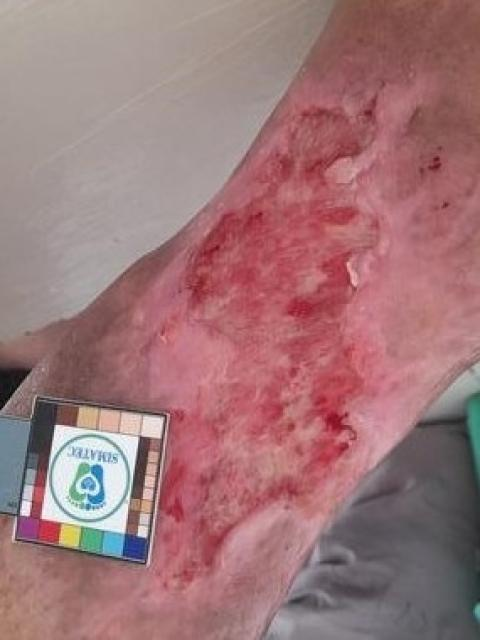wound: (155, 86, 384, 585)
